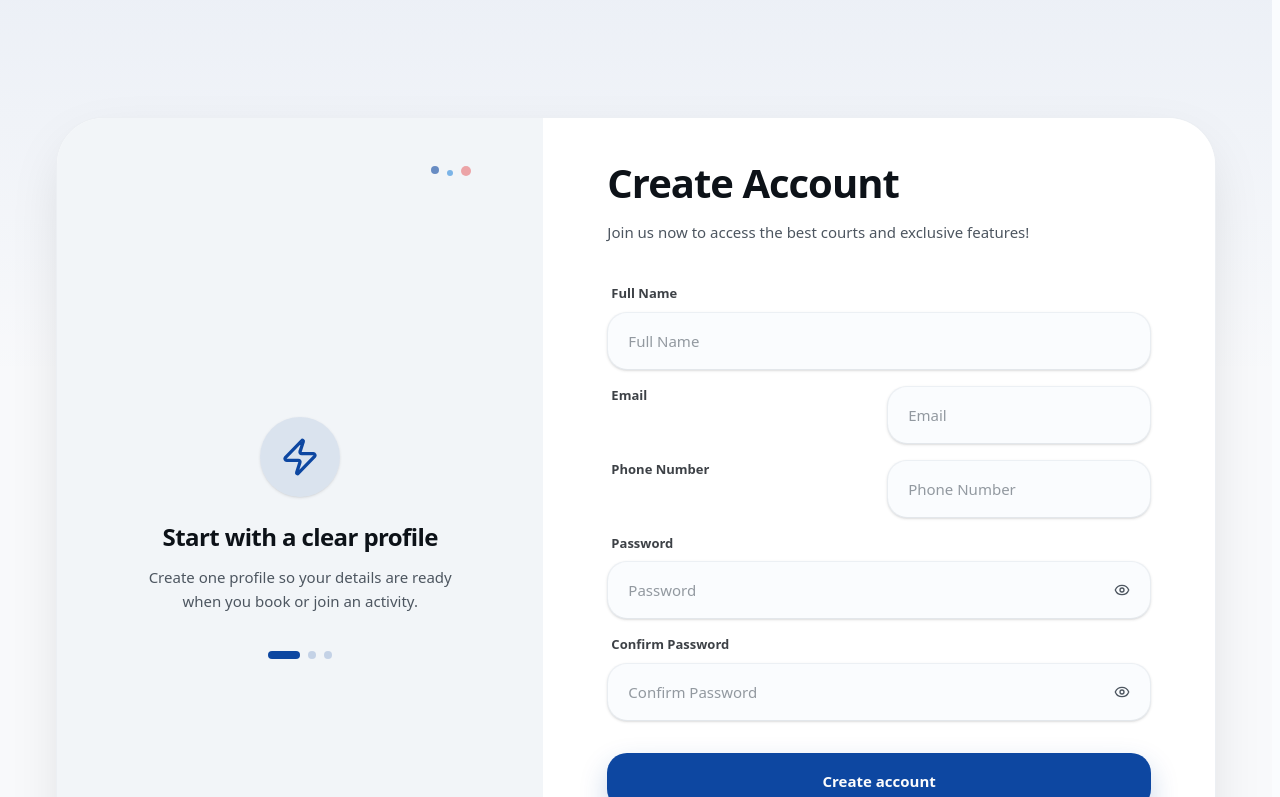
Scenario: Auth forms › RegisterForm › maps duplicate phone conflicts to the phone field
The width and height of the screenshot is (1280, 797).
In the field with placeholder "Full Name": (879, 341) [608,313,1150,369], type "Omar Ali"
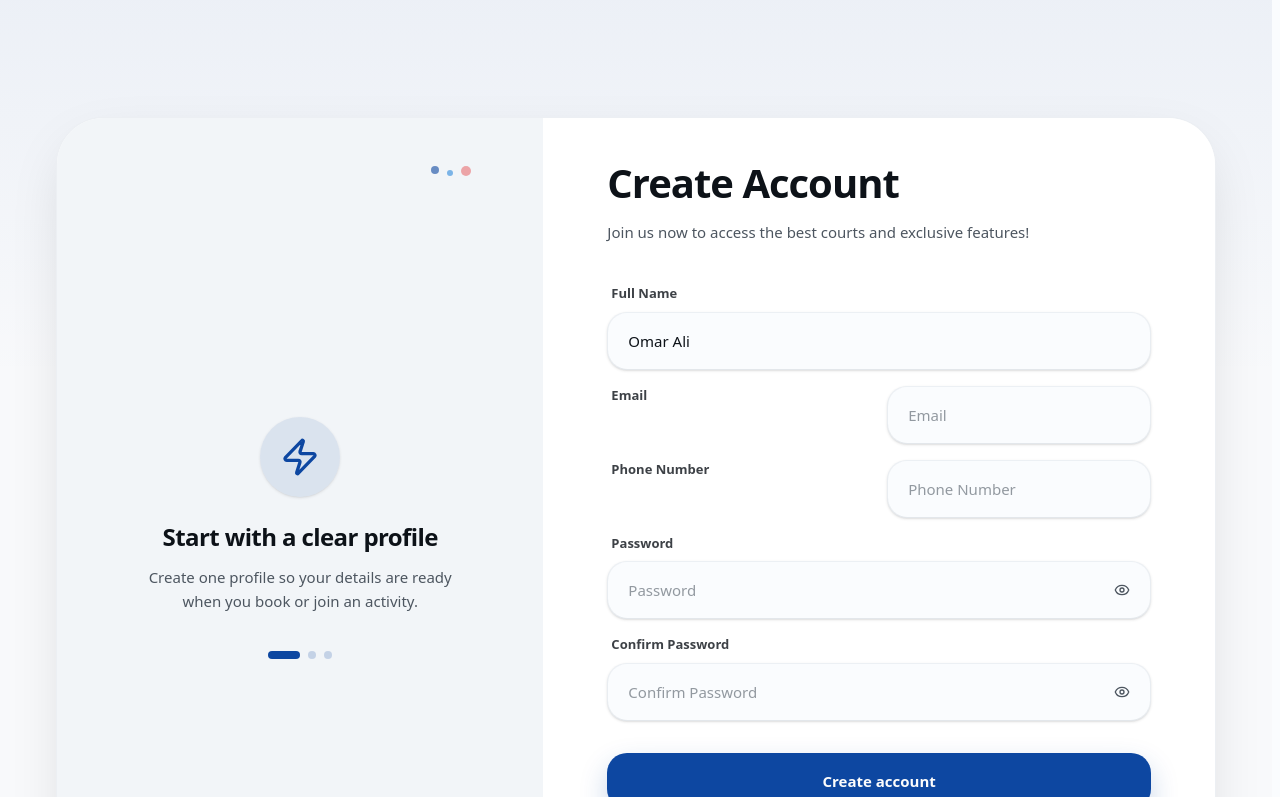
In the field with placeholder "Email": (1019, 415) [888,387,1150,443], type "omar@example.com"
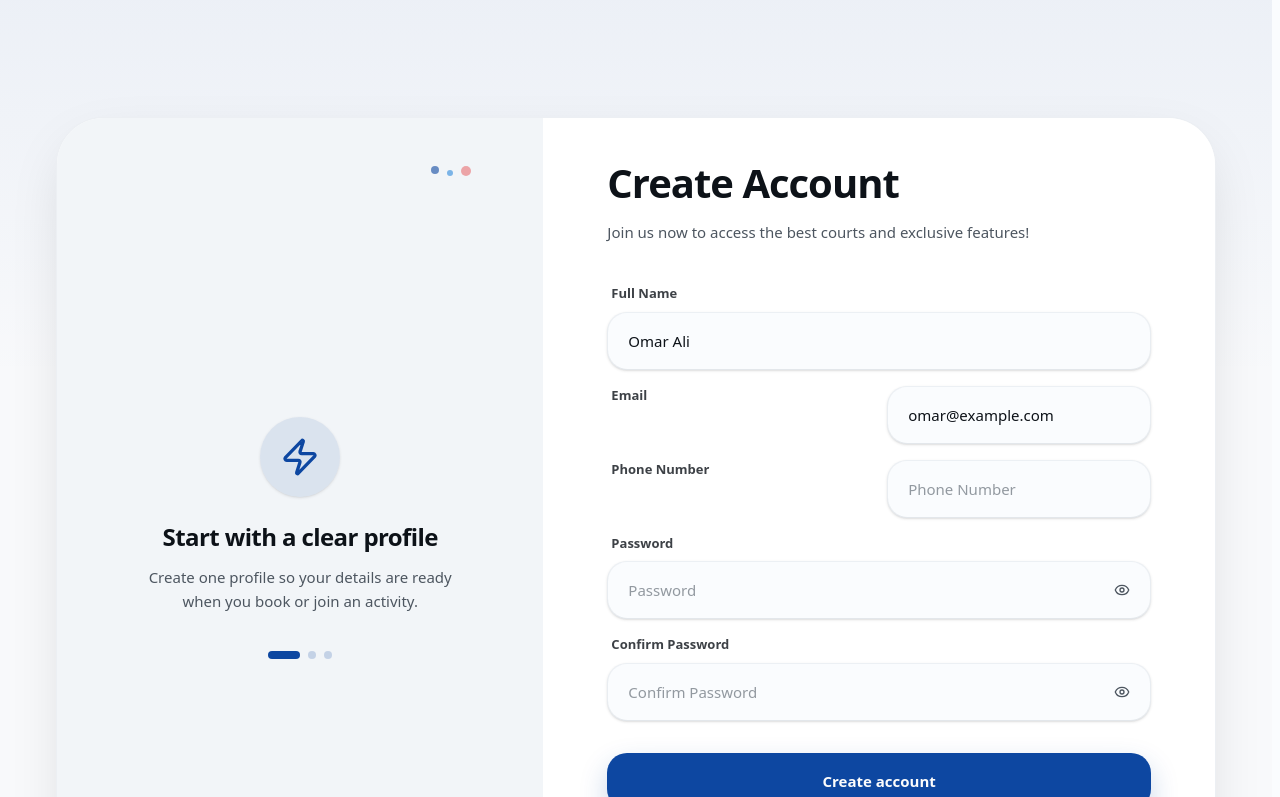
In the field with placeholder "Phone Number": (1019, 489) [888,461,1150,517], type "01012345678"
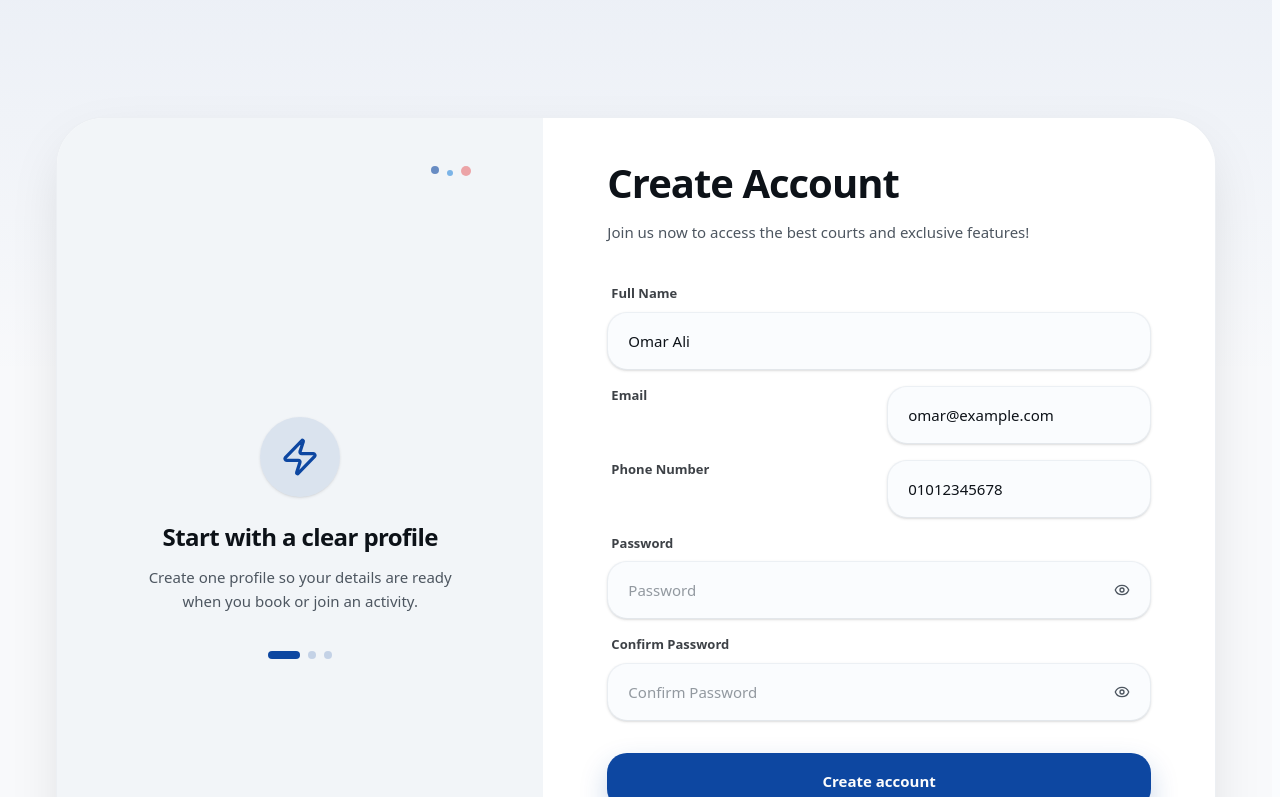
In the password field with placeholder "Password": (879, 590) [608,562,1150,618], type "Password123"
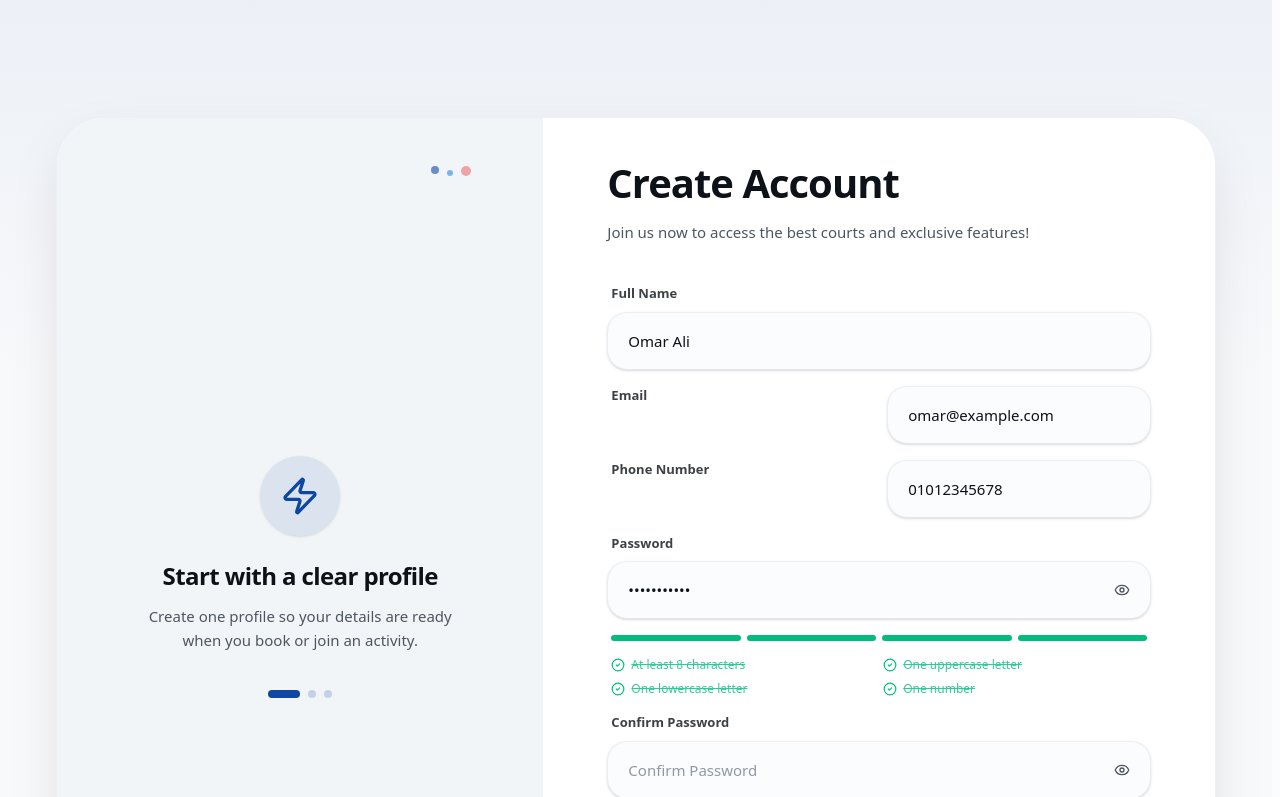
In the password field with placeholder "Confirm Password": (879, 770) [608,742,1150,796], type "Password123"
(page scrolled)
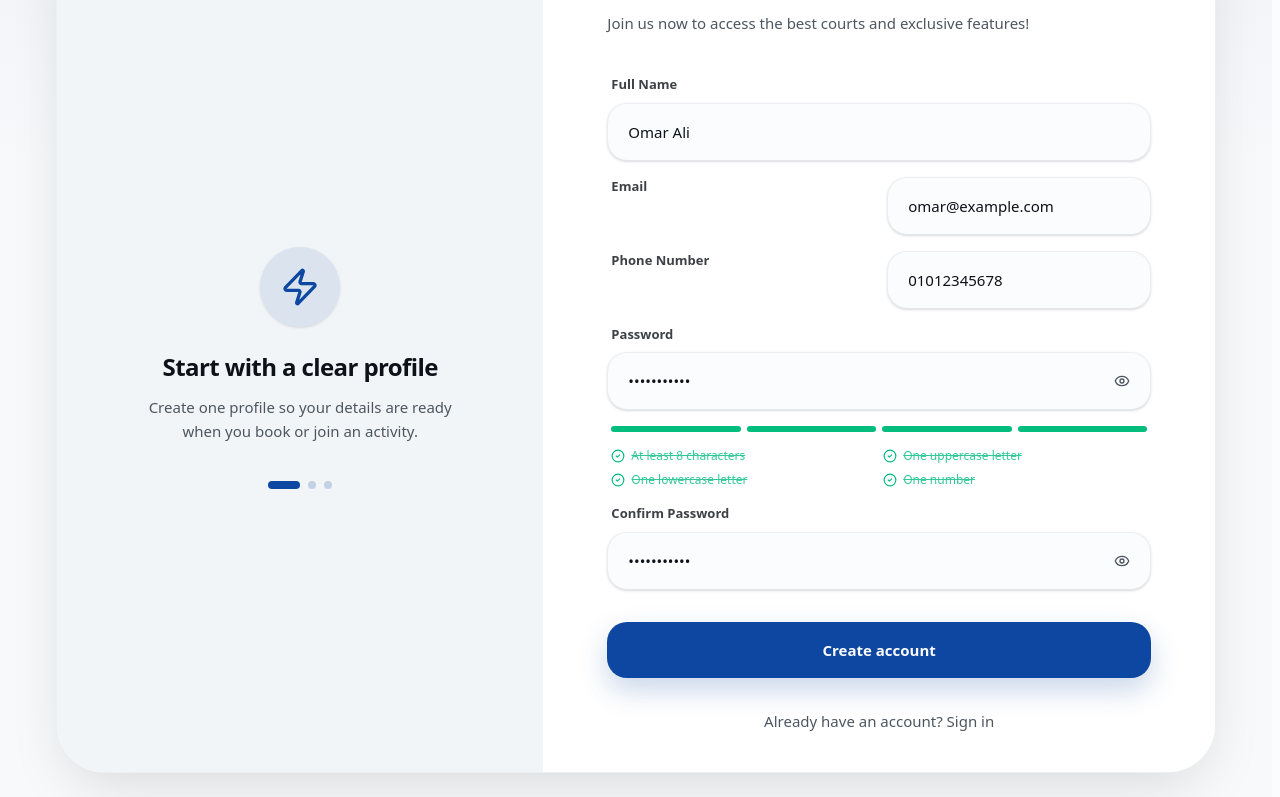
Click the button "Create account": (879, 650) [607,622,1151,678]
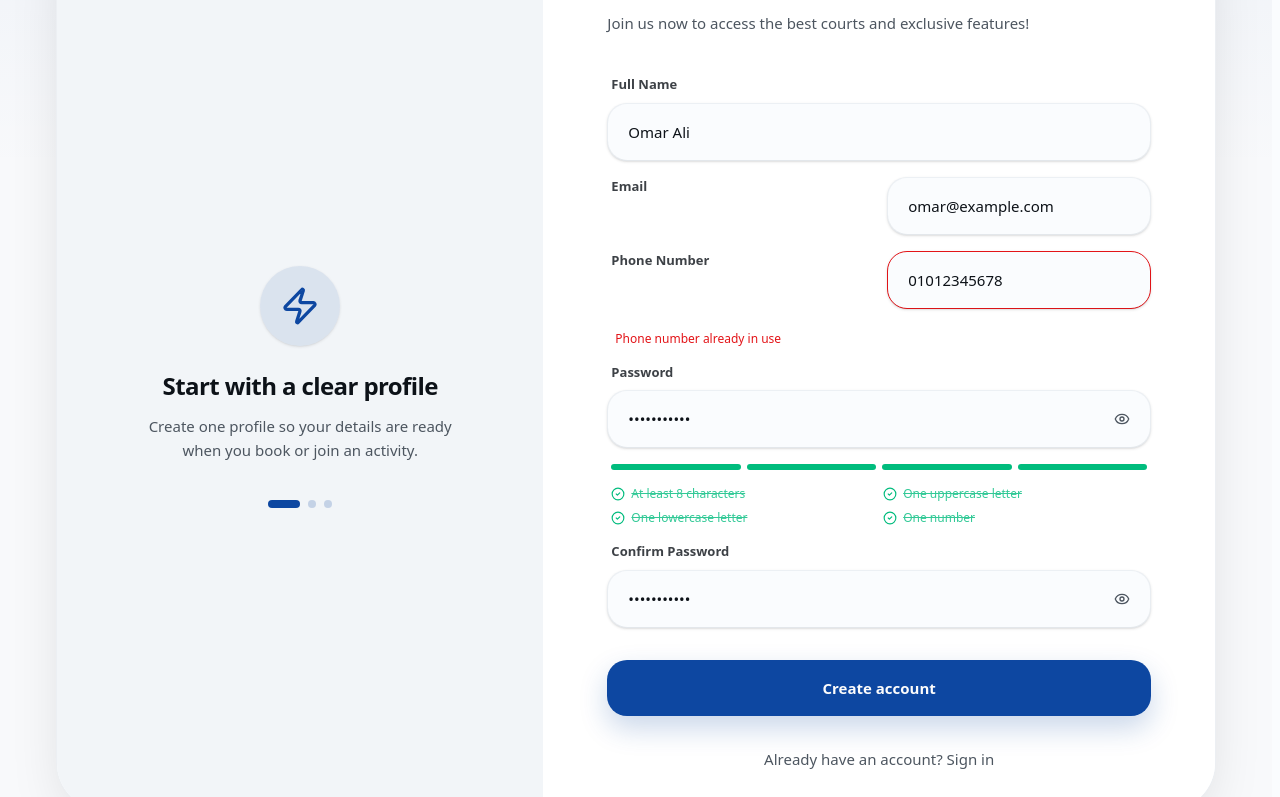
Now the text "Phone number already in use" is shown, box [615,330,781,347]
